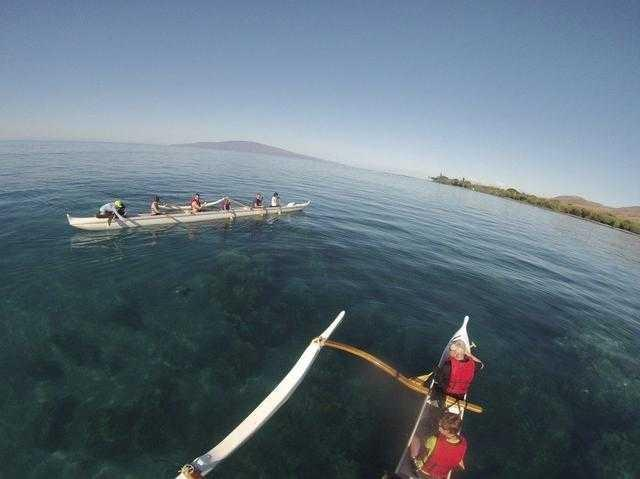kayak: (178, 309, 347, 479), (64, 195, 313, 227)
